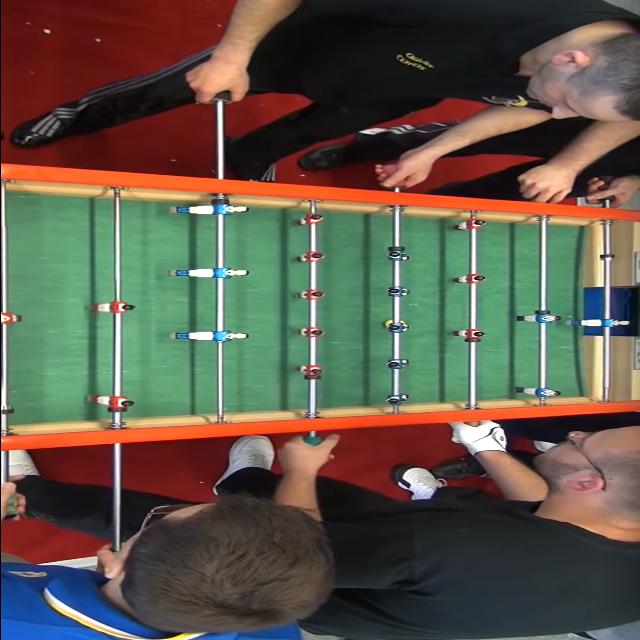ball: (383, 312, 399, 333)
